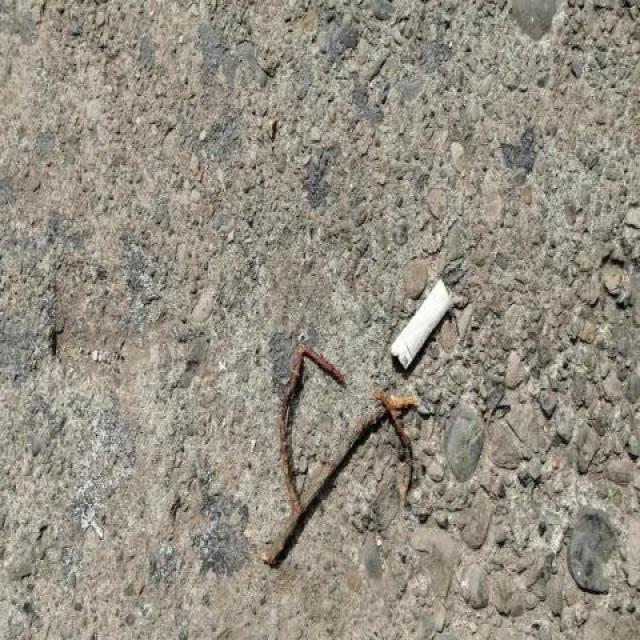non-organic waste: (384, 270, 456, 382)
